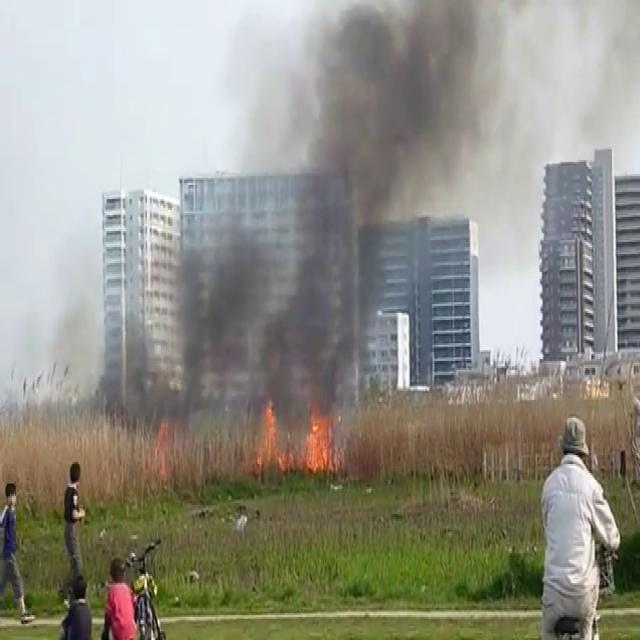Fire: (250, 390, 342, 483)
Smoke: (168, 1, 518, 447), (39, 291, 208, 448)
